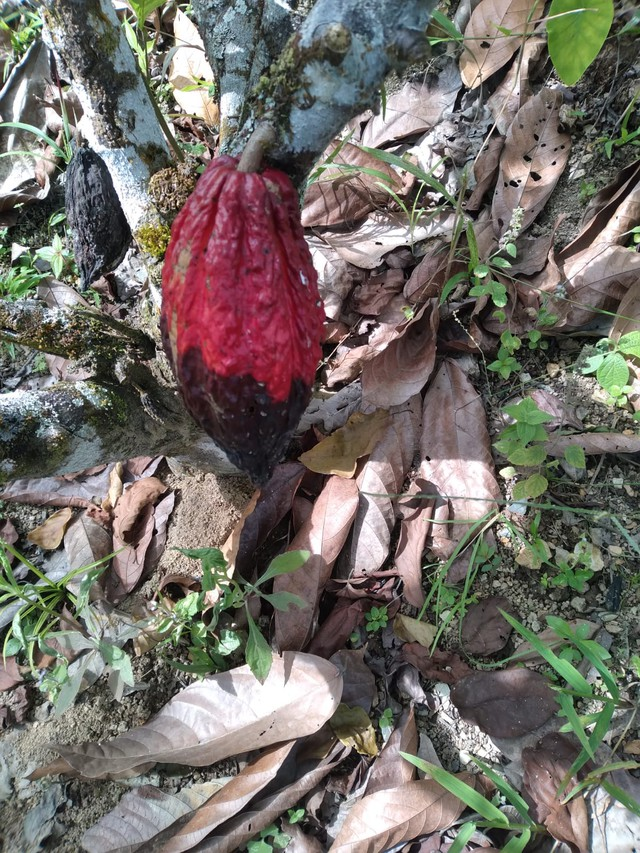phytophthora palmivora: (150, 149, 334, 490)
